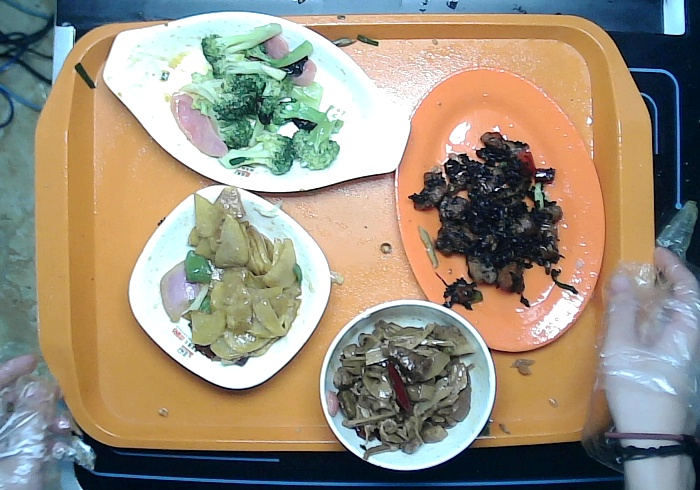NLDX-Bai_Se_Xiao_Fang_Die: (129, 184, 332, 389)
NLDX-Fan_Wan: (319, 299, 496, 469)
NLDX-Ju_Se_Pan: (394, 68, 607, 354)
NLDX-Yu_Pan: (103, 12, 411, 194)
